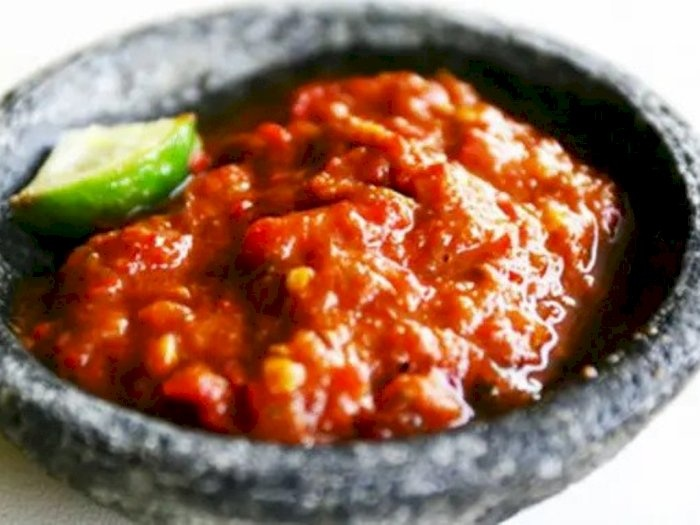sambal: (52, 68, 620, 449)
